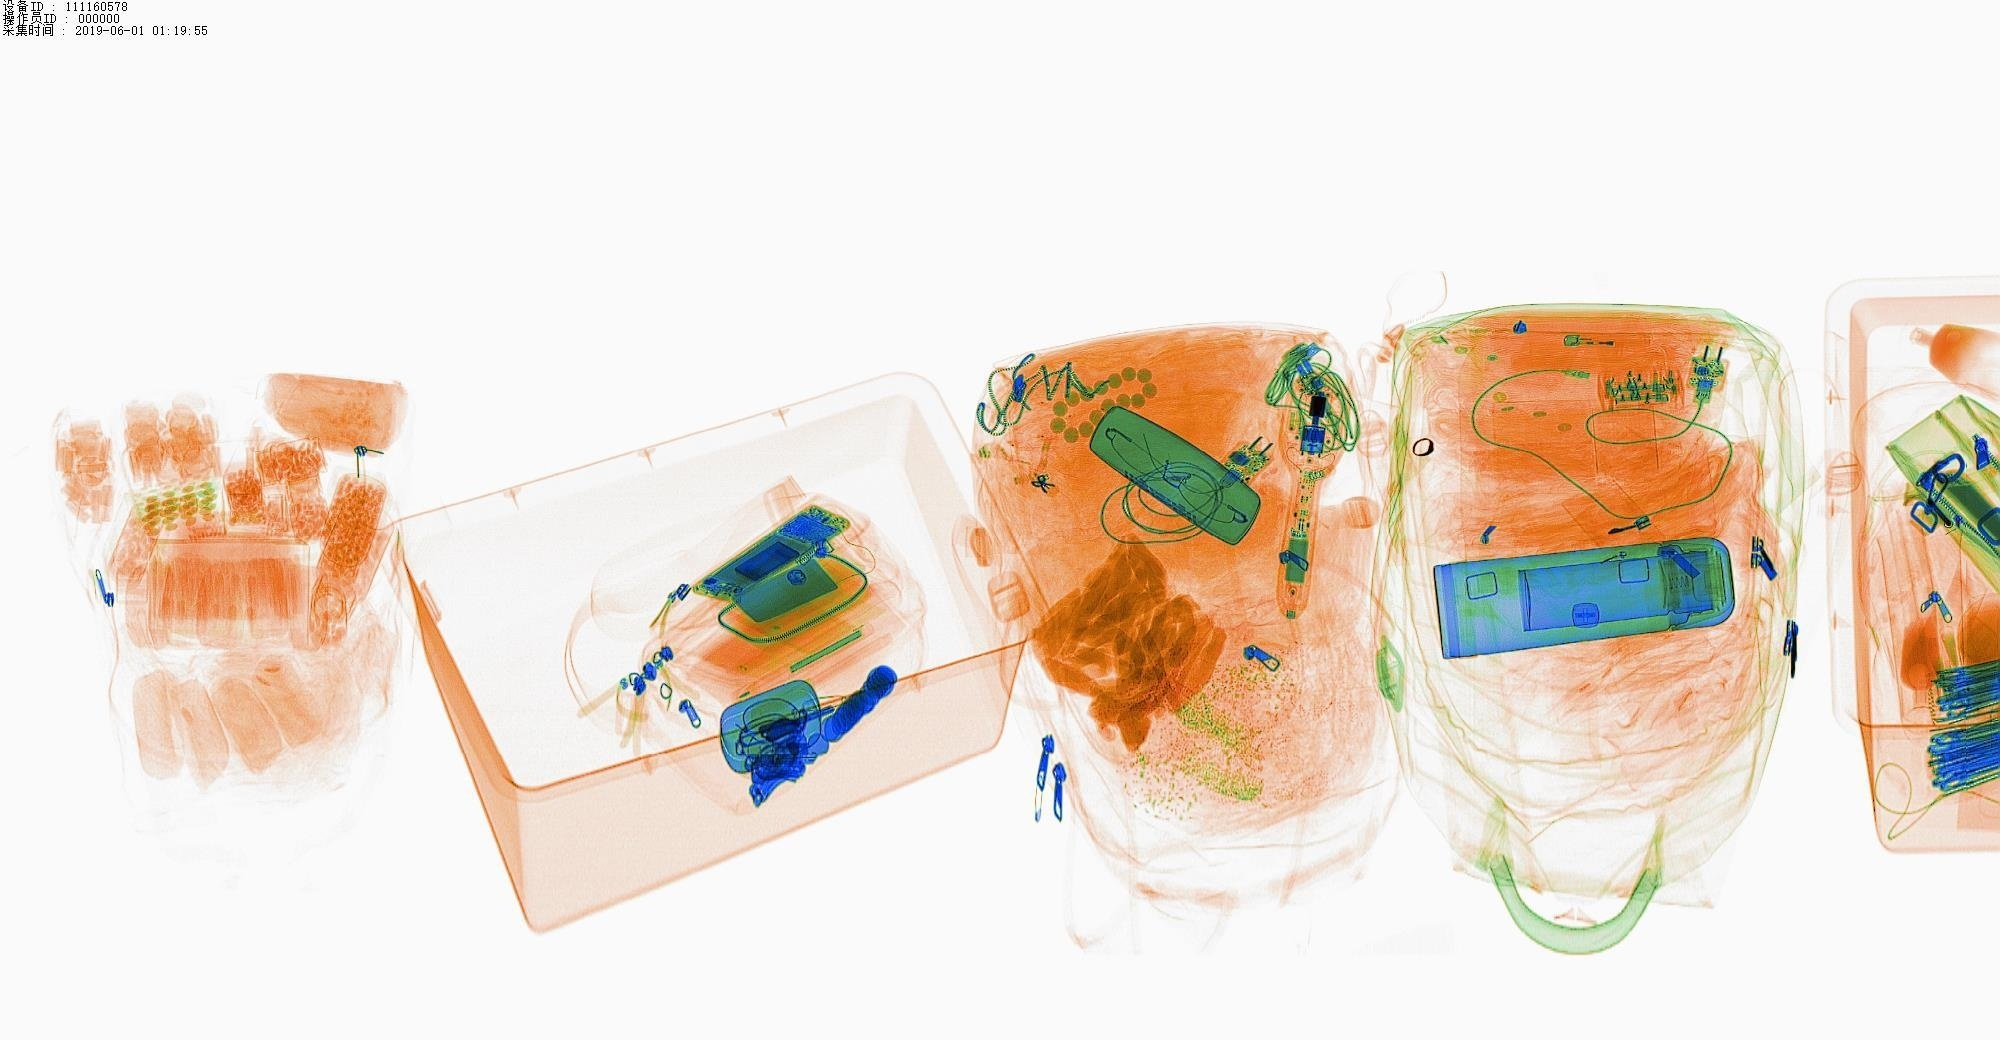NonmetallicFire: (1538, 319, 1671, 356)
